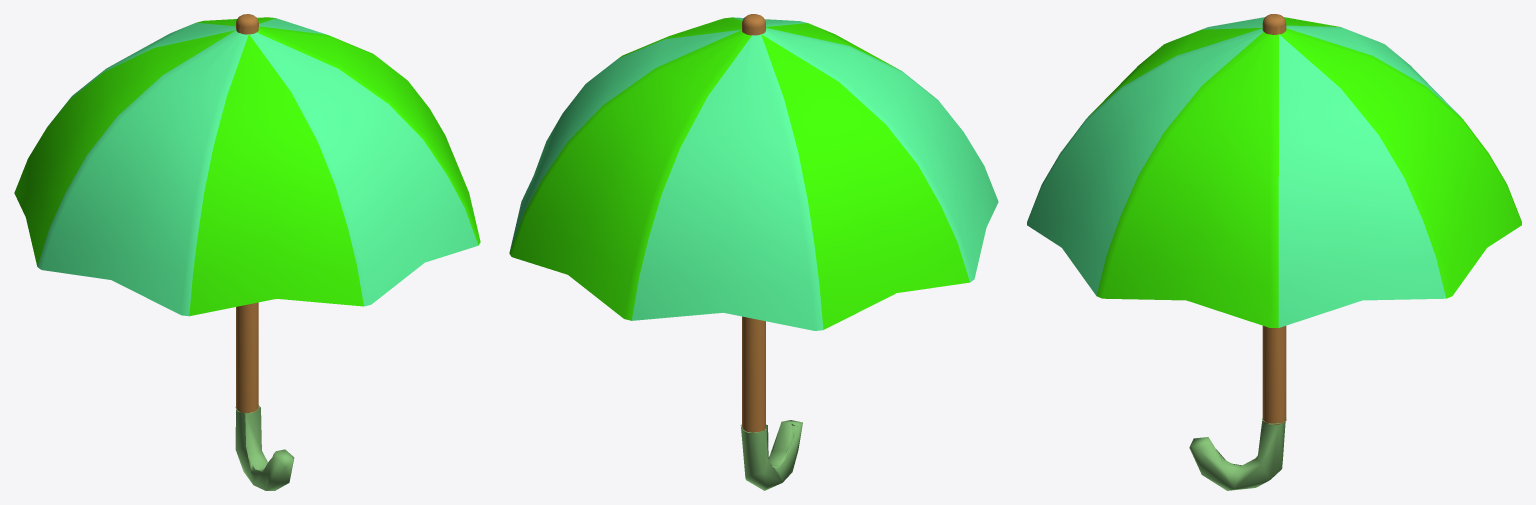
File: umbrella.glb
3 views of the same model, side by side, from view 1: azimuth 30°, elevation 25°; view 2: azimuth 150°, elevation 25°; view 3: azimuth 270°, elevation 25° (orthographic). The views are drawn at different scales.
Visible parts, largest first — view 1: Umbrella Hat New, Umbrella Stem, Umbrella Handle; view 2: Umbrella Hat New, Umbrella Stem, Umbrella Handle; view 3: Umbrella Hat New, Umbrella Handle, Umbrella Stem.
Boxes of the visible parts, left/top/right/bottom form: Umbrella Hat New: left=14, top=17, right=480, bottom=316; Umbrella Stem: left=236, top=14, right=258, bottom=413; Umbrella Handle: left=235, top=405, right=294, bottom=490; Umbrella Hat New: left=509, top=17, right=998, bottom=330; Umbrella Stem: left=742, top=14, right=765, bottom=432; Umbrella Handle: left=740, top=420, right=802, bottom=490; Umbrella Hat New: left=1027, top=17, right=1521, bottom=327; Umbrella Handle: left=1189, top=418, right=1286, bottom=490; Umbrella Stem: left=1262, top=14, right=1286, bottom=424.
Size of the model in its own units: 2.07 by 2.18 by 2.07.
